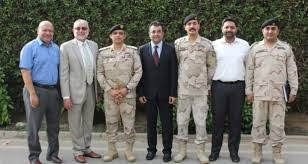uniform: (252, 39, 294, 145), (98, 44, 137, 150), (172, 35, 209, 145)
